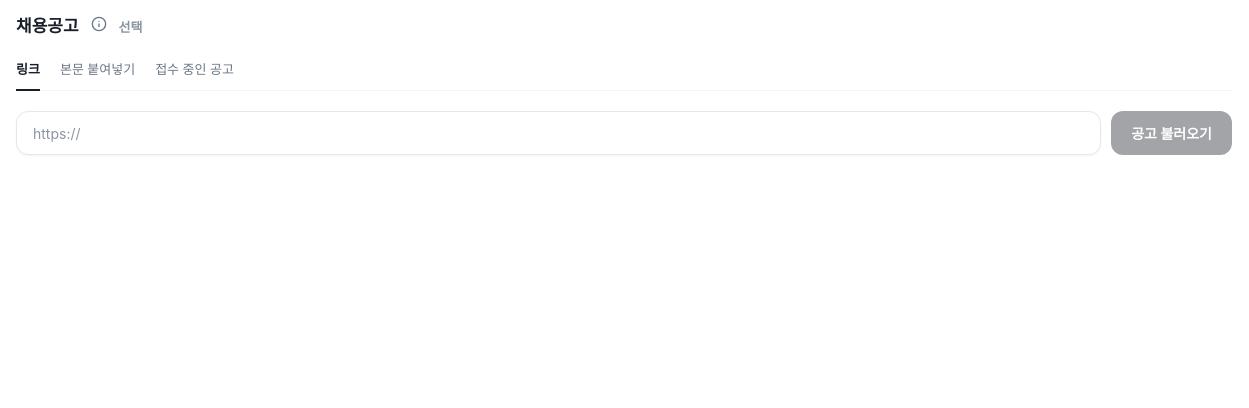
Test: JobPostingSection › shows the paste hint and switches to text mode when the URL is unreadable
This screenshot has width=1249, height=408.
Type "https://www.wanted.co.kr/wd/1" into the field named "채용 공고 링크" at (559,133), box [16,111,1101,155]
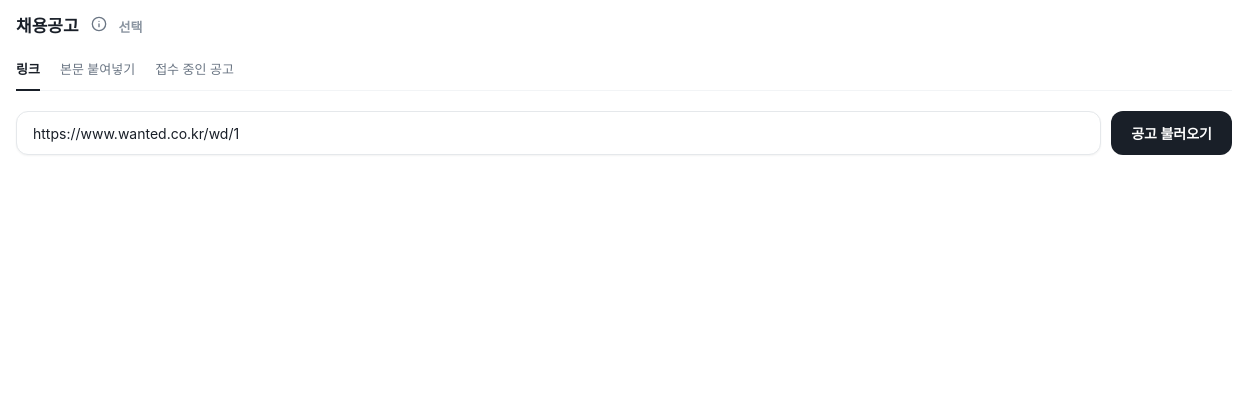
Click the button "공고 불러오기" at (1172,133), box [1111,111,1232,155]
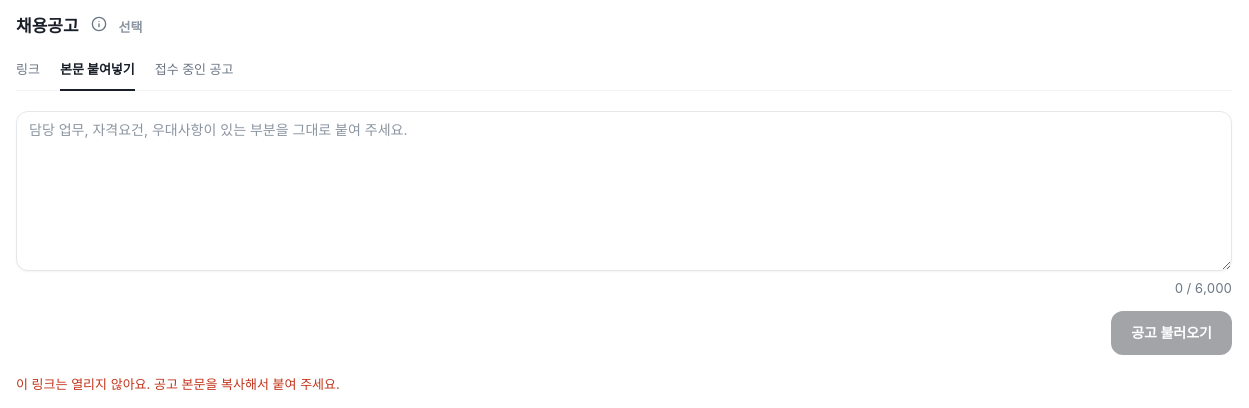
Now the text "이 링크는 열리지 않아요. 공고 본문을 복사해서 붙여 주세요." is shown, box [16,376,340,392]
Now the text box named "공고 본문" is shown, box [16,111,1232,271]
